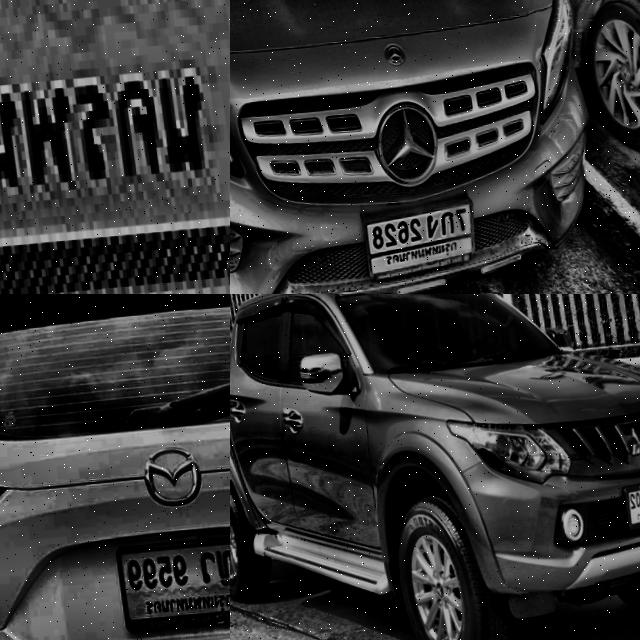license-plate: (0, 0, 230, 294), (109, 531, 230, 637), (350, 189, 478, 283), (613, 476, 640, 530)
